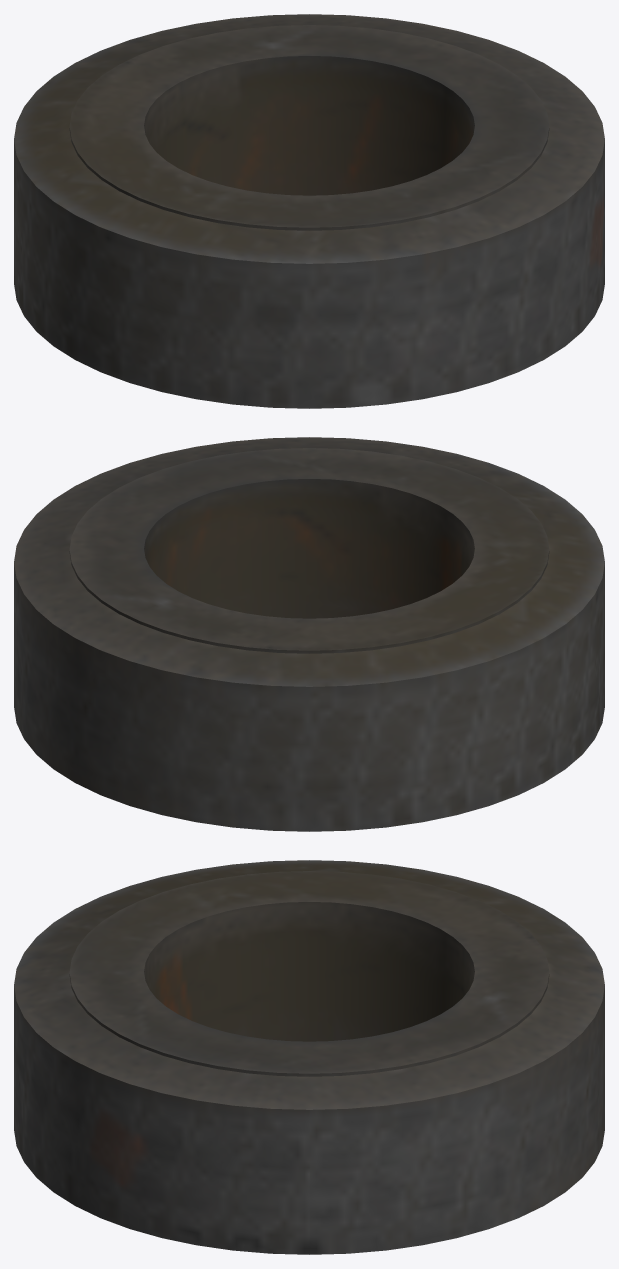
The model's file is SM_Tire1.fbx.
3 views of the same model, one above another, from view 1: azimuth 30°, elevation 25°; view 2: azimuth 150°, elevation 25°; view 3: azimuth 270°, elevation 25° (orthographic).
Visible parts, largest first — view 1: SM_Tire1_LOD0; view 2: SM_Tire1_LOD0; view 3: SM_Tire1_LOD0.
Boxes of the visible parts, x1,y1,x2,y2 form: SM_Tire1_LOD0: (14, 14, 604, 408); SM_Tire1_LOD0: (14, 437, 604, 831); SM_Tire1_LOD0: (14, 860, 604, 1254).
Bounding box in the file's own units: 71.96 × 71.96 × 23.67.
